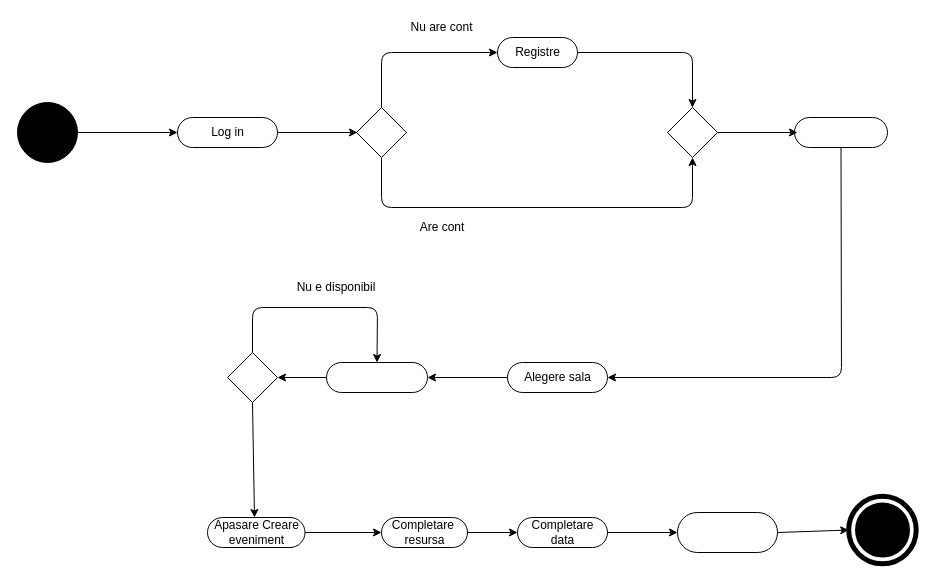
Image size: 936x583. Some labels were removed from this diagram. Each missing label, with the centre of its shape:
"Alegere data" belongs at point 377,377.
"Apasare Adaugare membrii" belongs at point 727,532.
"Rezervare resursa" belongs at point 841,132.
